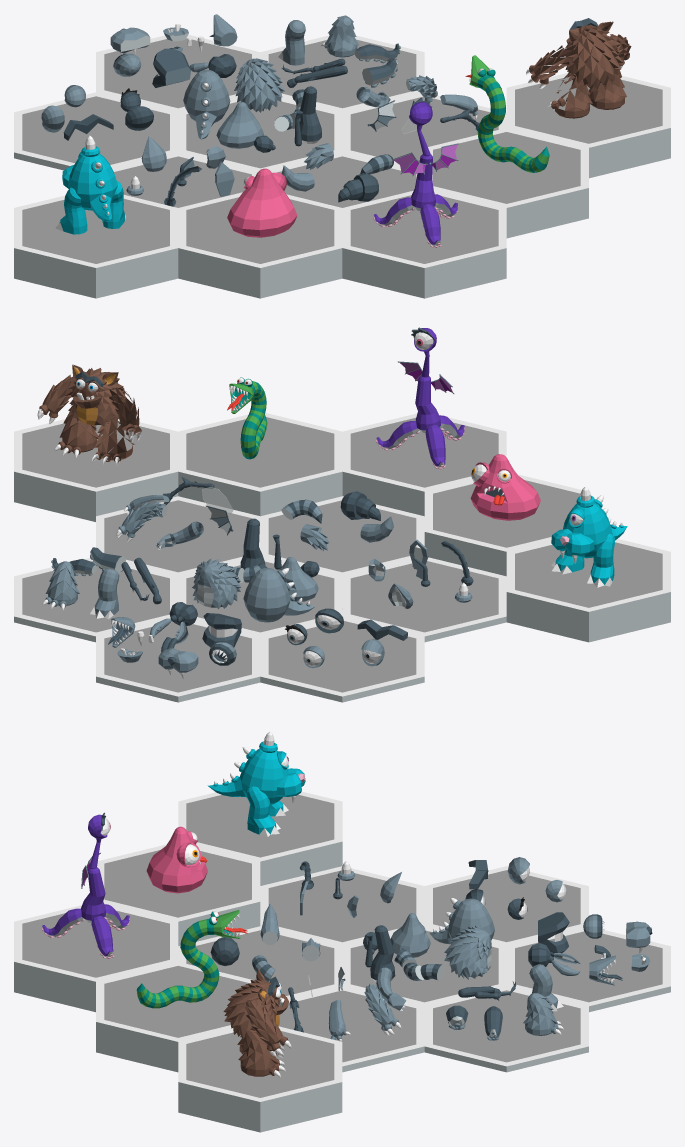
File: Monster Kit 1.0.glb
3 views of the same model, one above another, from view 1: azimuth 30°, elevation 25°; view 2: azimuth 150°, elevation 25°; view 3: azimuth 270°, elevation 25° (orthographic).
Parts seen in each view (by area): view 1: group836063186, group748403249, group254540578, group1121907890, group1516665701, group181371034, group2133272639, group1943184054, group684730406, group1991725274, group82686449, group2005595165 (+31 smaller); view 2: group1121907890, group748403249, group1516665701, group836063186, group1595601396, group181371034, group254540578, group82686449, group1966503722, group1943184054, group684730406, group2133272639 (+22 smaller); view 3: group1516665701, group836063186, group1121907890, group748403249, group684730406, group254540578, group1595601396, group82686449, group181371034, group1943184054, group1966503722, group1991725274 (+18 smaller).
Part boxes in pixels (box(x1,y1,x2,y2)): group836063186: box(342, 190, 506, 298); group748403249: box(14, 195, 178, 298); group254540578: box(178, 192, 342, 298); group1121907890: box(428, 128, 588, 238); group1516665701: box(506, 73, 670, 178); group181371034: box(14, 92, 178, 170); group2133272639: box(526, 18, 631, 118); group1943184054: box(342, 93, 506, 166); group684730406: box(260, 35, 424, 112); group1991725274: box(178, 97, 342, 171); group82686449: box(96, 34, 260, 112); group2005595165: box(55, 135, 125, 234); group1121907890: box(178, 413, 342, 516); group748403249: box(506, 539, 670, 642); group1516665701: box(14, 419, 178, 521); group836063186: box(342, 413, 506, 516); group1595601396: box(342, 557, 506, 642); group181371034: box(260, 616, 424, 702); group254540578: box(424, 474, 581, 576); group82686449: box(96, 618, 260, 702); group1966503722: box(260, 496, 424, 576); group1943184054: box(96, 496, 260, 576); group684730406: box(14, 558, 178, 642); group2133272639: box(37, 364, 141, 465); group1516665701: box(178, 1026, 342, 1132); group836063186: box(14, 903, 178, 1012); group1121907890: box(96, 962, 253, 1072); group748403249: box(178, 791, 342, 885); group684730406: box(424, 986, 588, 1072); group254540578: box(97, 844, 260, 945); group1595601396: box(260, 866, 424, 946); group82686449: box(506, 927, 670, 1012); group181371034: box(424, 866, 588, 946); group1943184054: box(278, 986, 424, 1072); group1966503722: box(178, 926, 342, 999); group1991725274: box(342, 926, 506, 1006).
Size of the model in its own units: 6.72 by 1.54 by 5.82.
